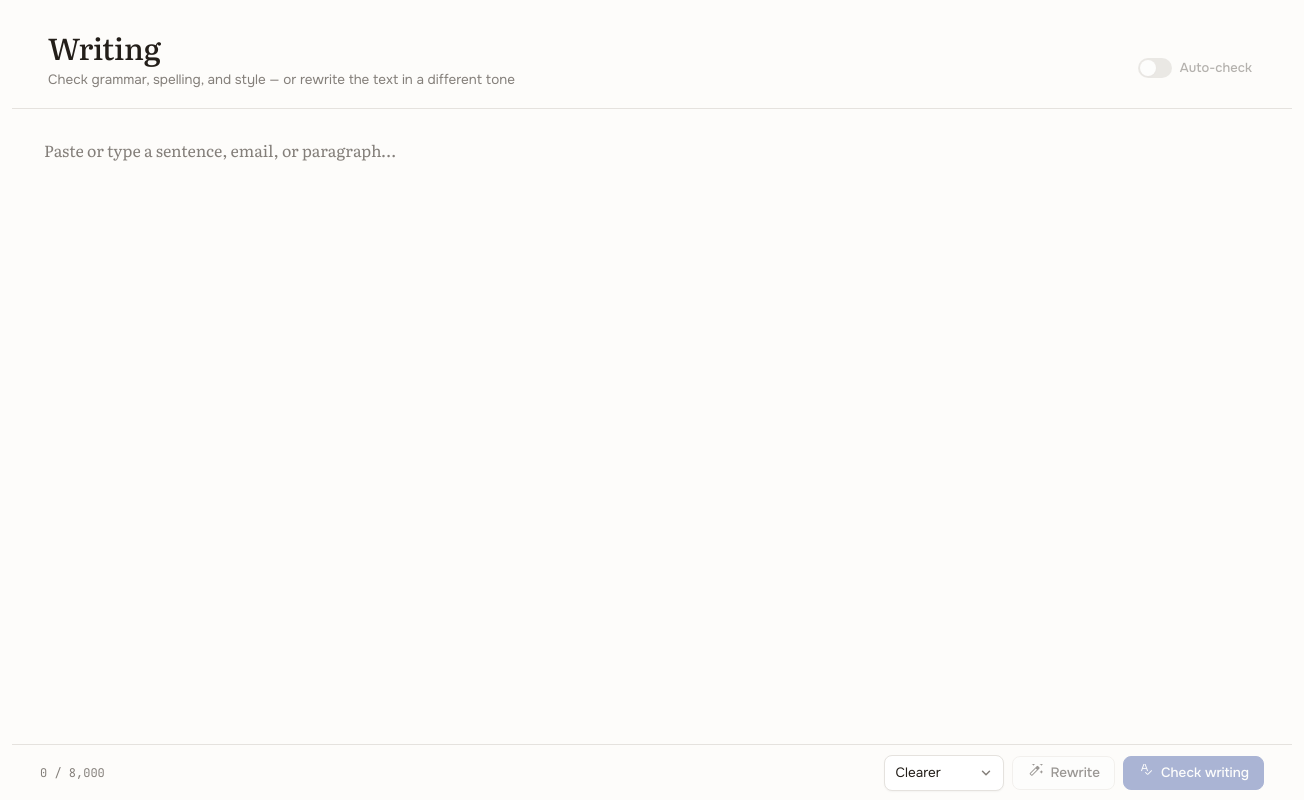
it: WritingPage › applies a fix and persists the accepted status
This screenshot has width=1304, height=800.
Type "he go home" into the text box named "Text to check" at (652, 426), box [12,109,1292,744]
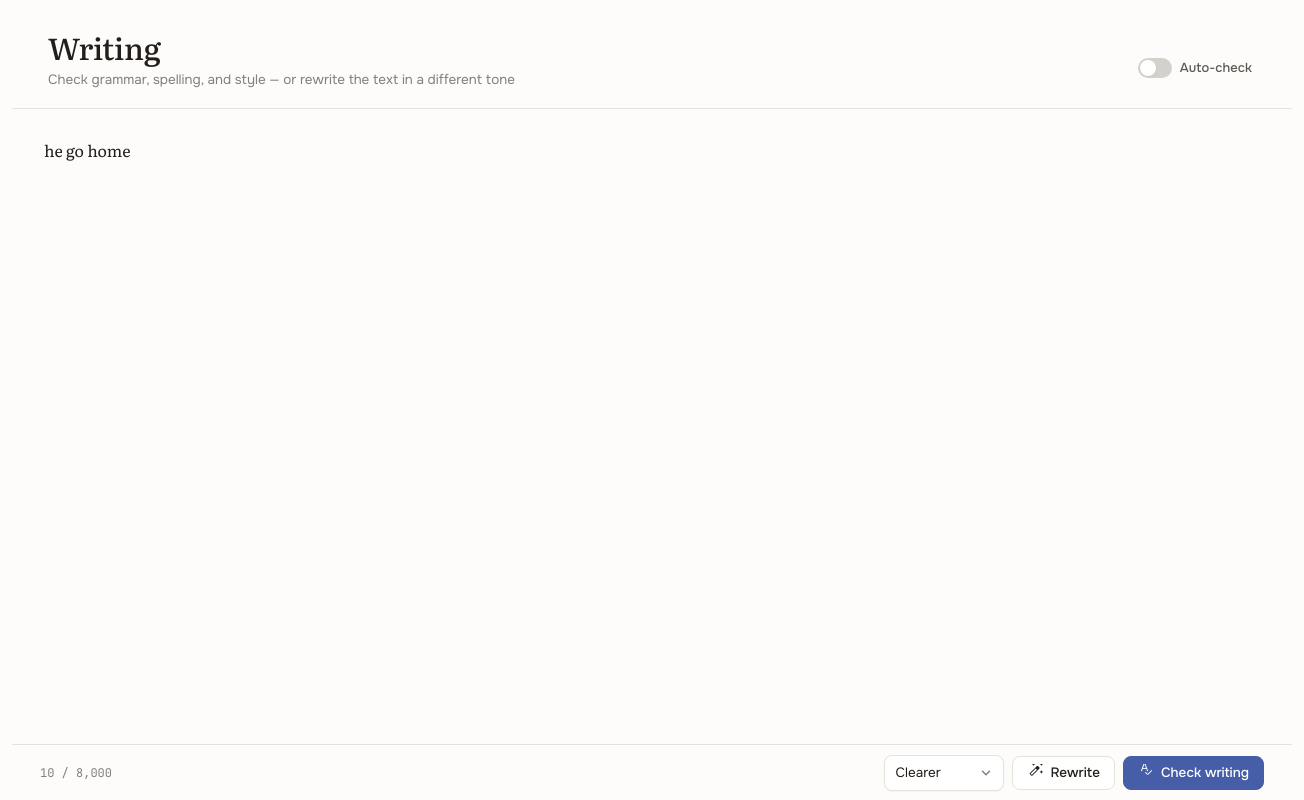
Click the button "Check writing" at (1194, 772), box [1123,756,1264,790]
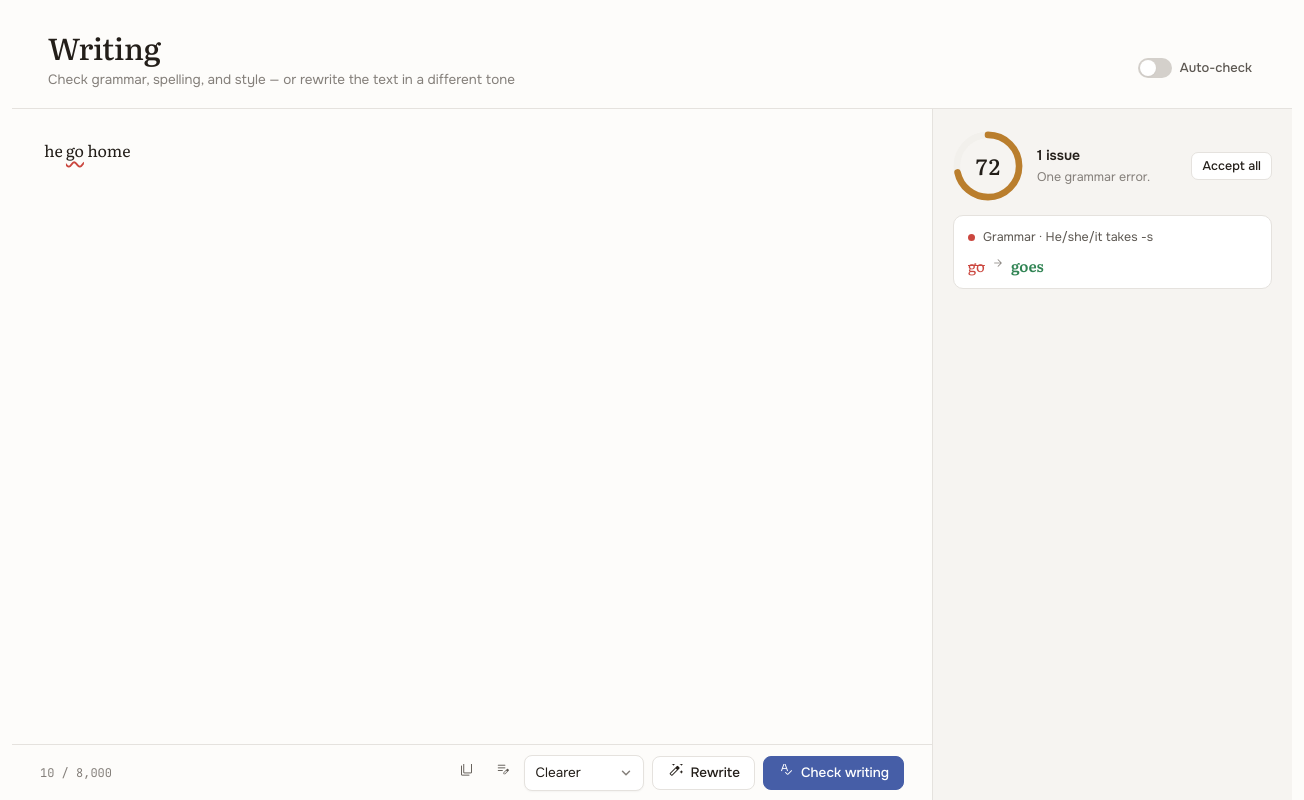
Check: the text "One grammar error." is shown, box [1037,169,1150,185]
Click the button with aria-label "Issue in" at (75, 150), box [66,137,84,164]
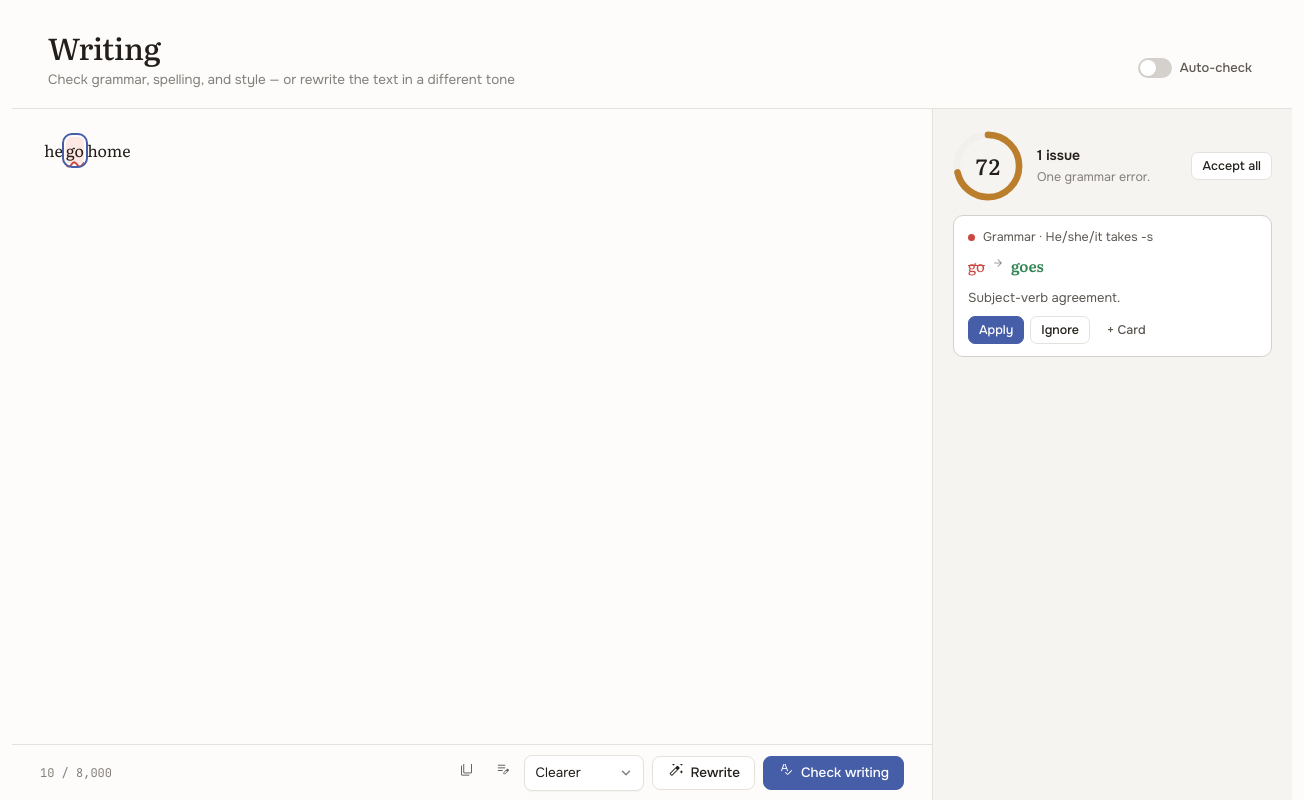
Click the button with aria-label "Apply fix for go" at (996, 330), box [968,316,1024,344]
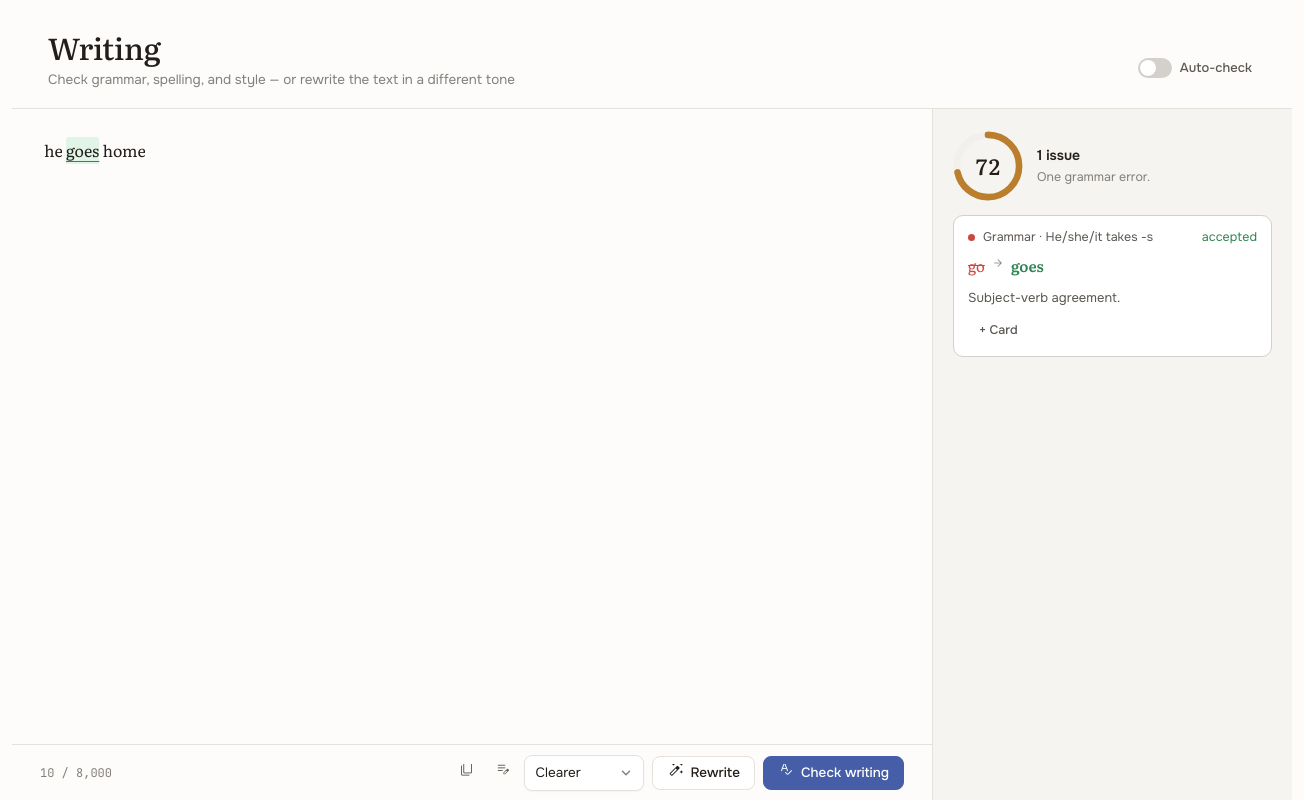
Check: the text "accepted" is shown, box [1202,228,1257,247]
Check: the button with aria-label "Issue in" reads "goes", box [66,137,99,164]
Check: the element named "Original text with issues highlighted" reads "he goes home", box [44,137,146,164]
Click the button named "Use suggested text as input" at (502, 772), box [488,758,516,786]
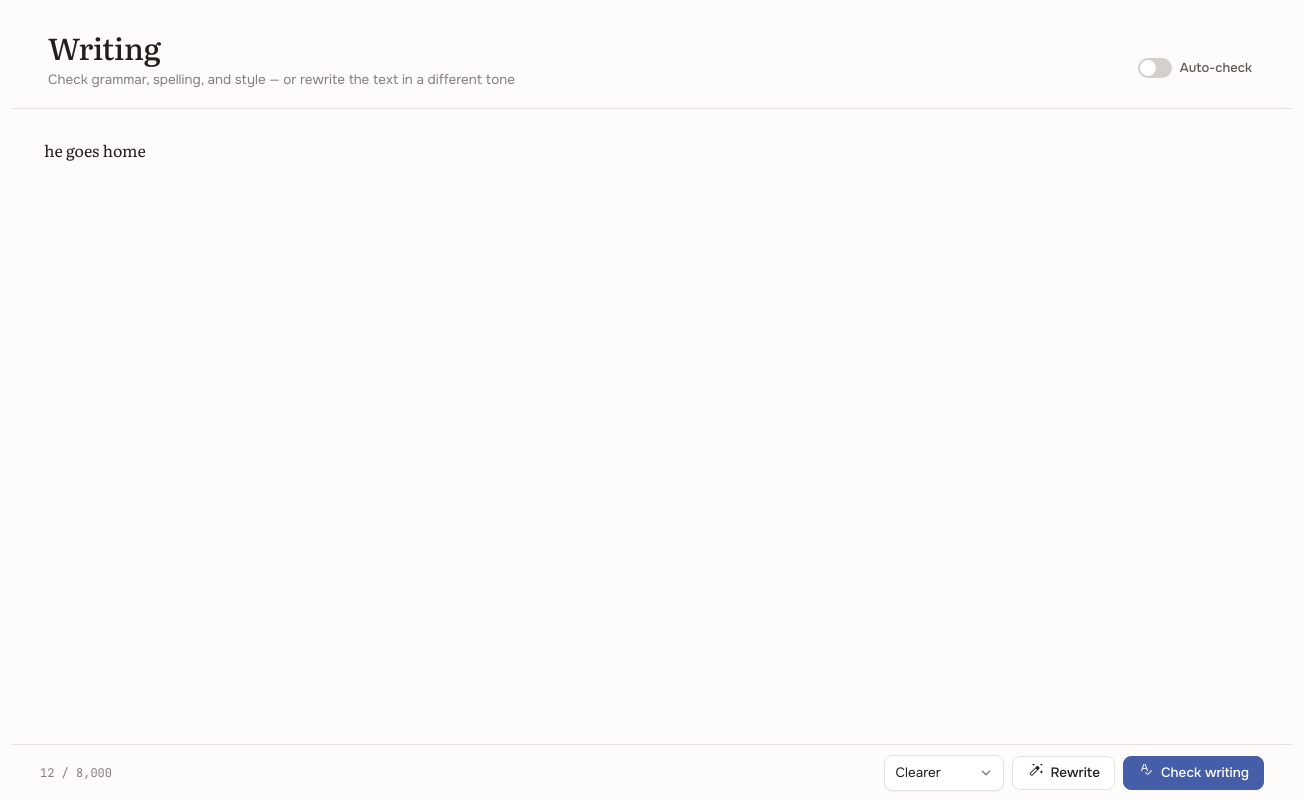
Check: the text box named "Text to check" holds "he goes home"
